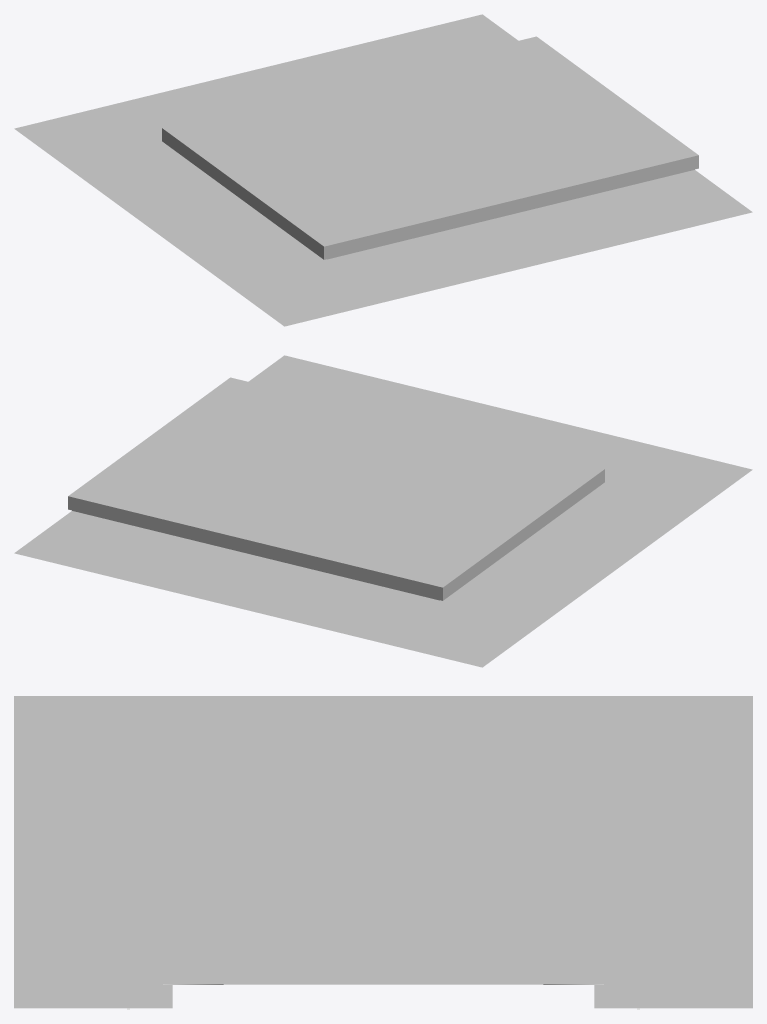
File: Ceiling03_8_700x700cm.FBX
The picture shows the model from 3 angles, top to bottom: view 1: azimuth 30°, elevation 25°; view 2: azimuth 150°, elevation 25°; view 3: azimuth 270°, elevation 25°; orthographic projection. The views are drawn at different scales.
Parts seen in each view (by area): view 1: Ceiling; view 2: Ceiling; view 3: Ceiling.
Boxes of the visible parts, x1=… form: Ceiling: x1=14, y1=14, x2=752, y2=326; Ceiling: x1=14, y1=355, x2=752, y2=667; Ceiling: x1=14, y1=696, x2=752, y2=1008.
Bounding box in the file's own units: 700 × 26.5 × 700.
